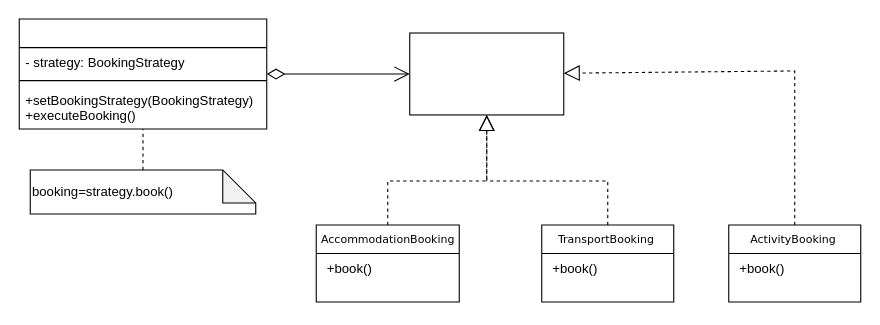
Image size: 880x325. Some labels were removed from this diagram. Here are the shapes that lost their labels. From the top down, the box of each, then its label:
(18, 18, 267, 129): BookingContext
(409, 32, 564, 115): <<Interface>> BookingStrategy +book(): void
